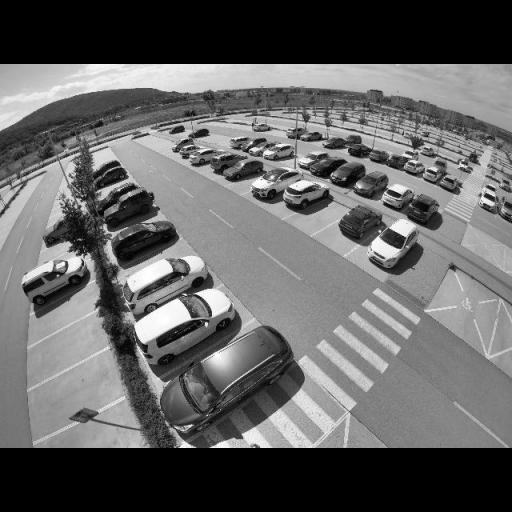busy: (171, 324, 301, 432), (139, 291, 242, 359), (128, 256, 213, 306), (365, 218, 419, 268), (24, 259, 88, 301), (114, 220, 178, 255), (258, 174, 321, 205), (100, 190, 156, 223), (250, 168, 300, 197), (337, 208, 383, 237), (284, 181, 330, 209), (403, 194, 442, 224), (98, 183, 148, 204), (222, 159, 266, 180), (330, 162, 368, 185), (382, 184, 418, 208), (354, 172, 388, 196), (96, 168, 130, 187), (312, 156, 346, 175), (262, 143, 296, 161), (297, 152, 329, 170), (210, 153, 242, 170), (190, 148, 224, 164), (241, 138, 271, 153), (172, 139, 200, 154), (479, 192, 499, 212), (422, 167, 445, 183), (439, 174, 459, 192), (95, 160, 124, 172), (322, 136, 346, 150), (350, 144, 374, 158), (387, 155, 408, 170), (229, 136, 253, 149), (370, 149, 392, 163), (498, 201, 512, 223), (404, 162, 426, 174), (298, 132, 324, 142), (190, 128, 212, 139), (342, 135, 362, 145), (254, 122, 272, 132), (286, 128, 302, 139), (459, 162, 472, 172)
free: (70, 421, 132, 448), (60, 372, 106, 404), (49, 334, 92, 359), (38, 301, 80, 325), (149, 242, 193, 260), (129, 210, 170, 228), (41, 243, 68, 261), (99, 176, 122, 194), (308, 208, 337, 222), (49, 214, 63, 224)
